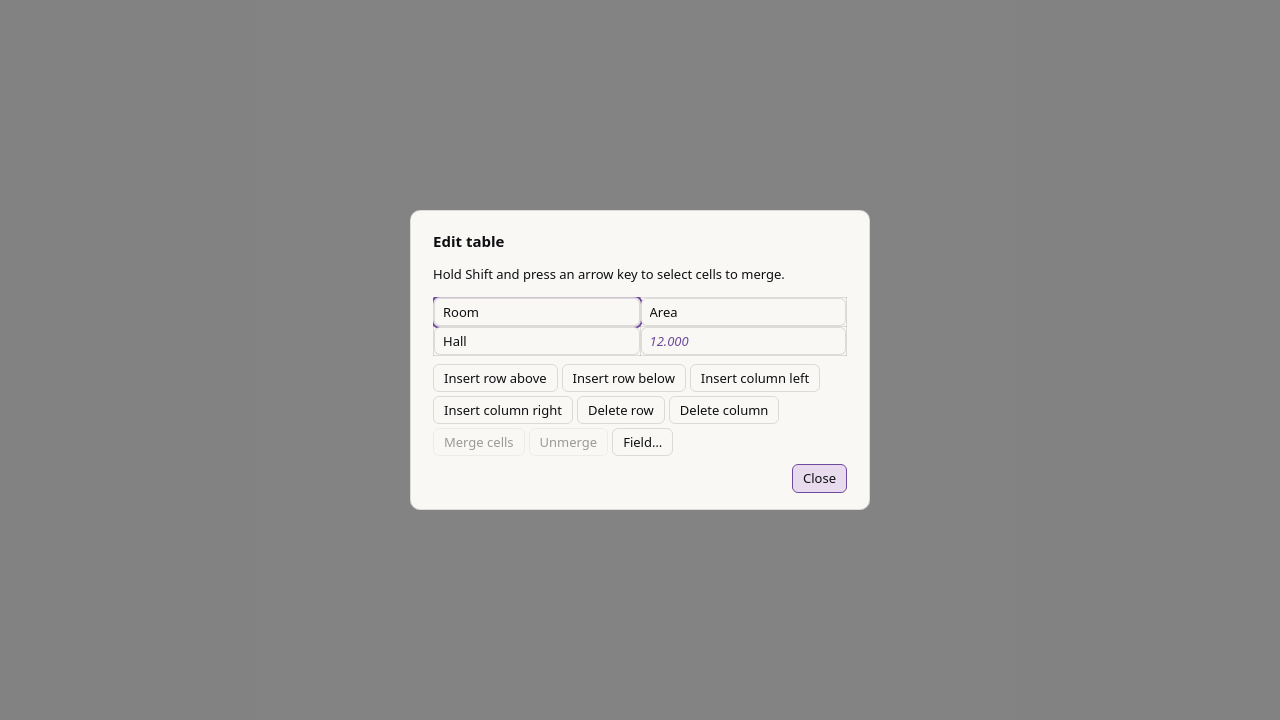
Test: a structural edit waits for the cell save; success = false
Replace the text in the field named "Cell 1, 1" with "Unsaved room". click: (537, 312)
box: [434, 298, 640, 326]
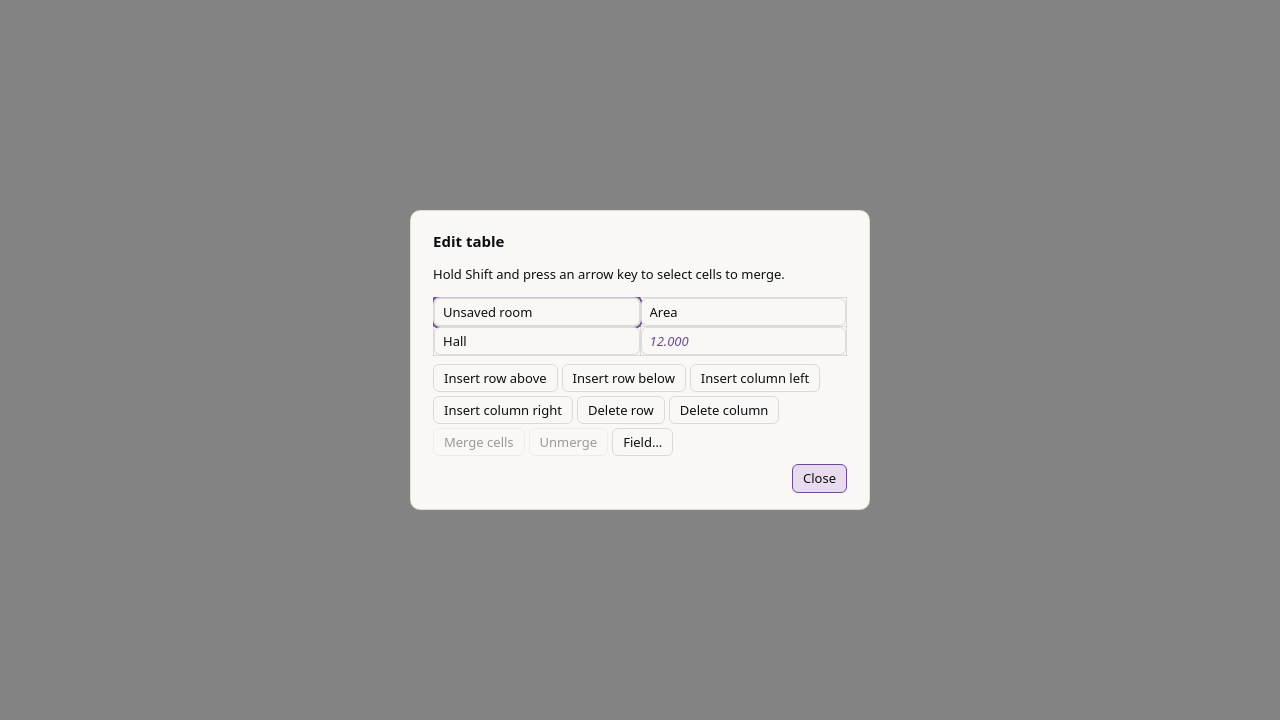
Click the button "Insert row below". click: (624, 378)
box: [562, 364, 686, 392]
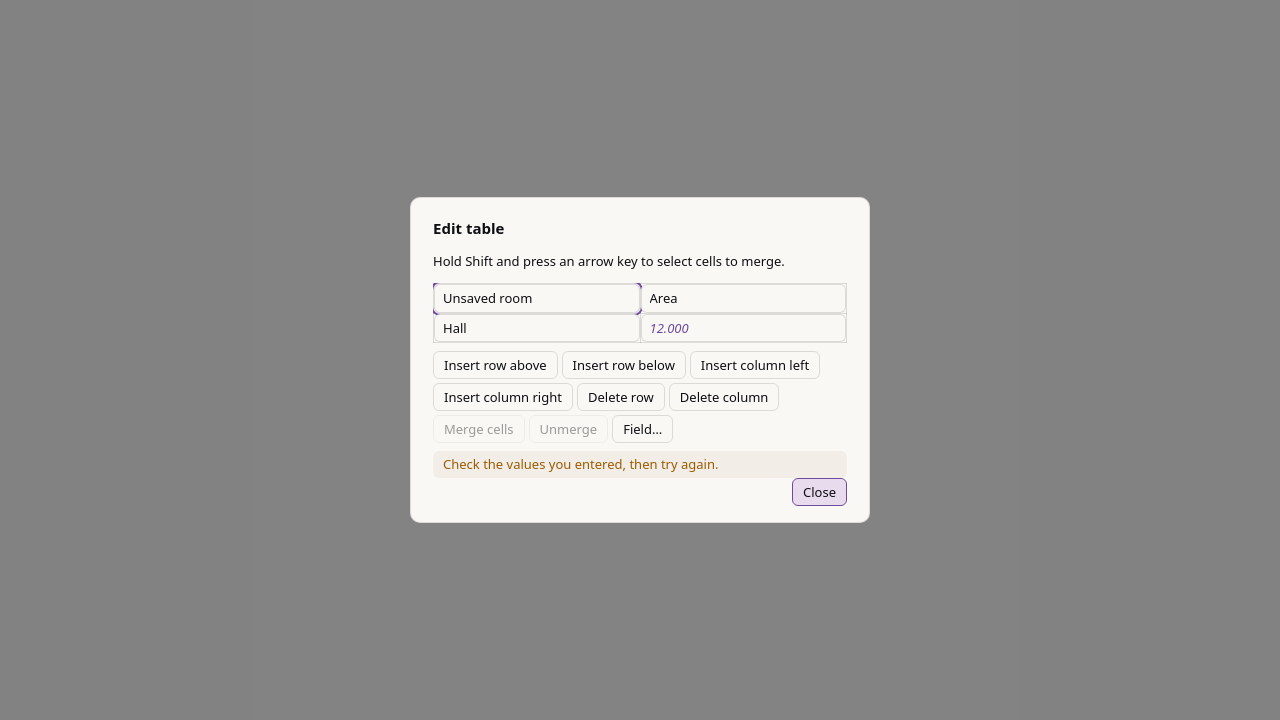
Expected: the message "Check the values you entered, then try again." is shown, [433, 451, 847, 478]
